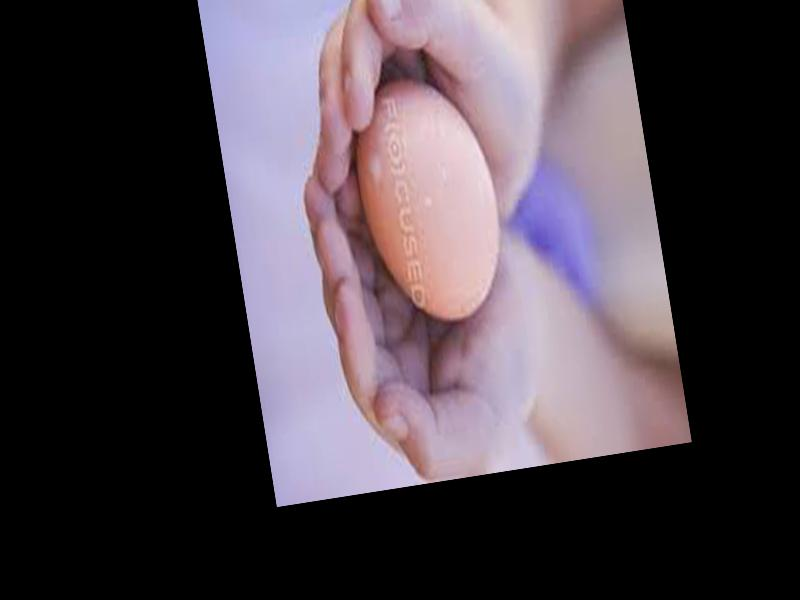Eggs: (344, 70, 515, 336)
